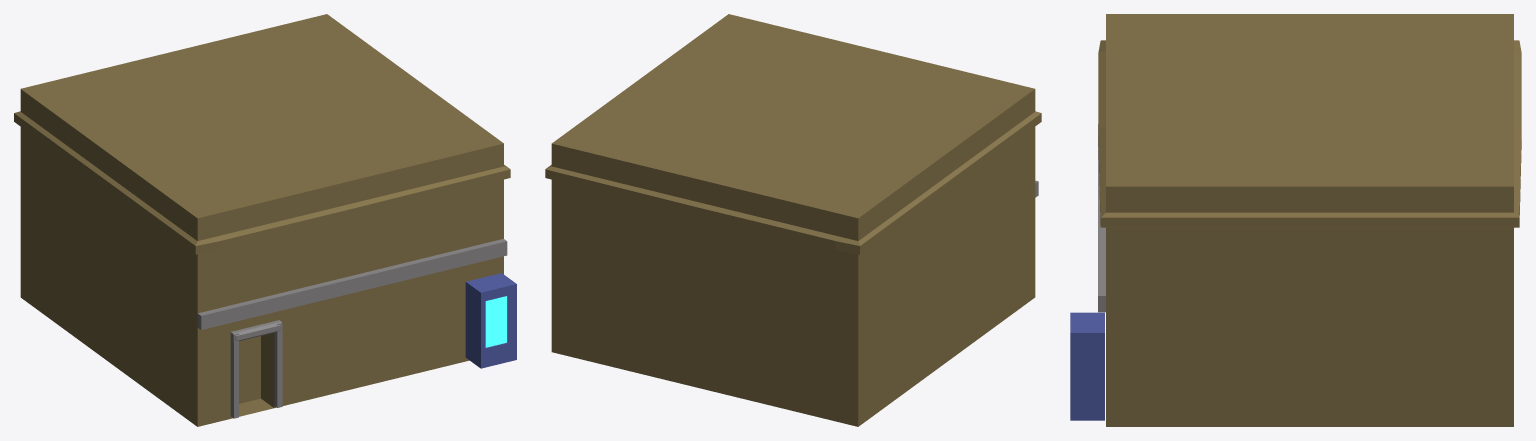
The picture shows the model from 3 angles, left to right: view 1: azimuth 30°, elevation 25°; view 2: azimuth 150°, elevation 25°; view 3: azimuth 270°, elevation 25°; orthographic projection. The views are drawn at different scales.
Visible parts, largest first — view 1: Cube, Cube.006, Cube.007, Cube.008, Cube.004, Cube.005, Cube.002; view 2: Cube; view 3: Cube, Cube.007, Cube.006.
Part boxes in pixels (x1,y1,x2,y2): Cube: (14,14,510,426); Cube.006: (197,239,507,329); Cube.007: (465,273,516,368); Cube.008: (485,296,507,347); Cube.004: (230,333,238,418); Cube.005: (274,322,282,407); Cube.002: (230,320,281,342); Cube: (545,14,1041,426); Cube: (1098,14,1521,426); Cube.007: (1070,312,1104,420); Cube.006: (1098,124,1105,312).
Size of what is drawn, in the model's own units: 12.8 by 8.1 by 13.79.
